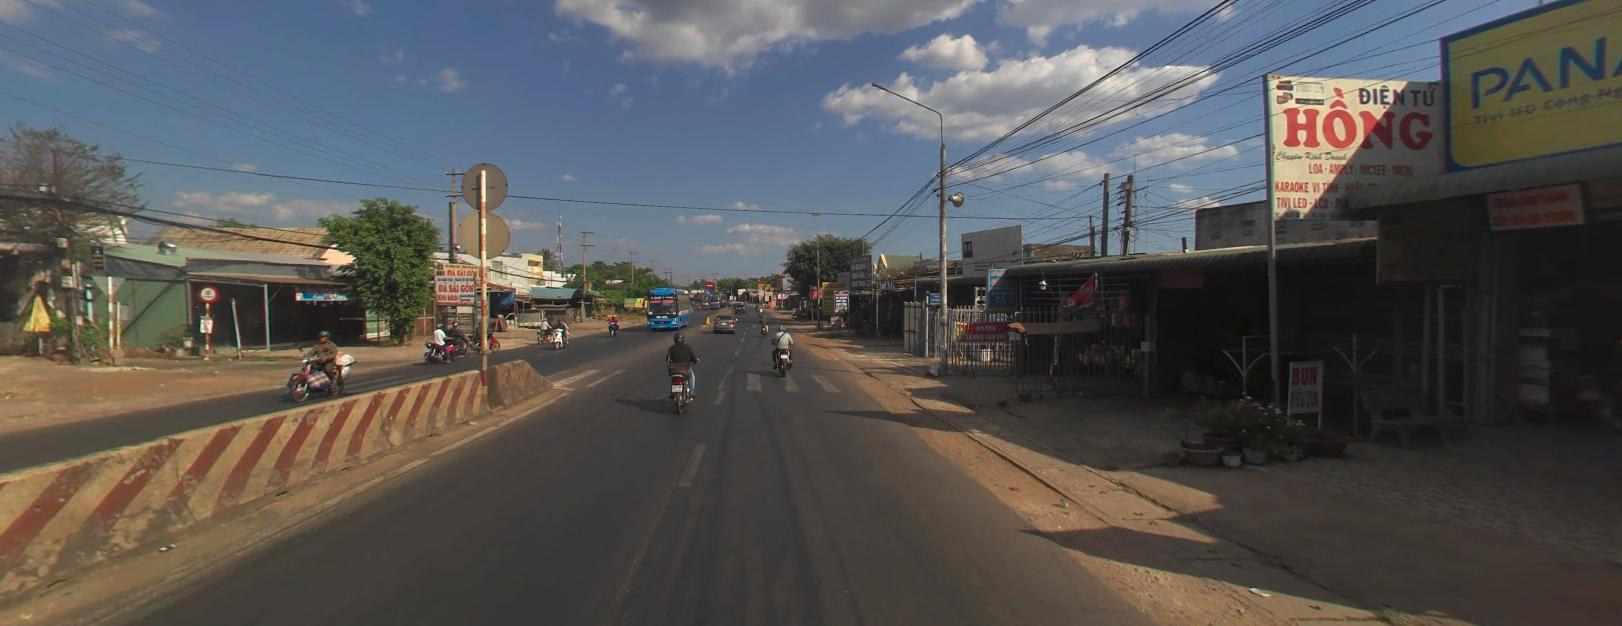Cam nguoc chieu: (705, 279, 713, 287)
Hieu lenh: (704, 288, 713, 295)
